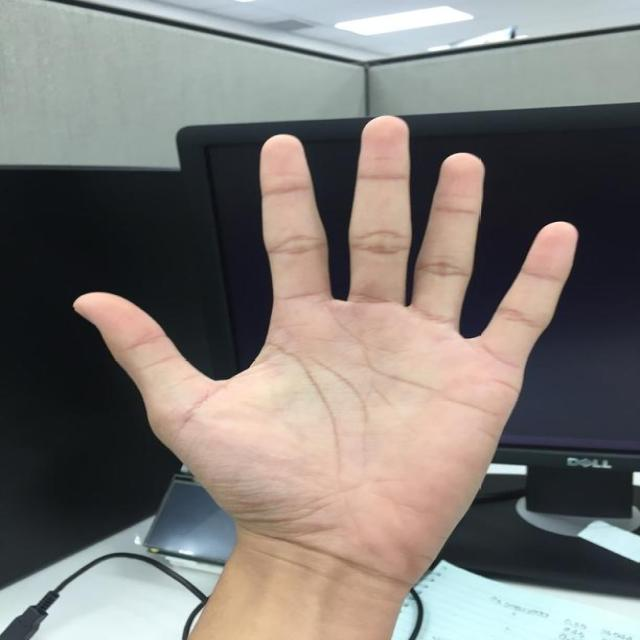hand: (71, 112, 585, 582)
